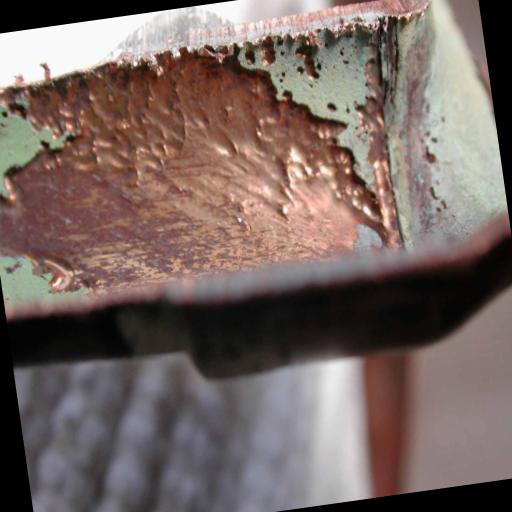segmentation: (0, 16, 404, 292), (0, 132, 365, 289)
